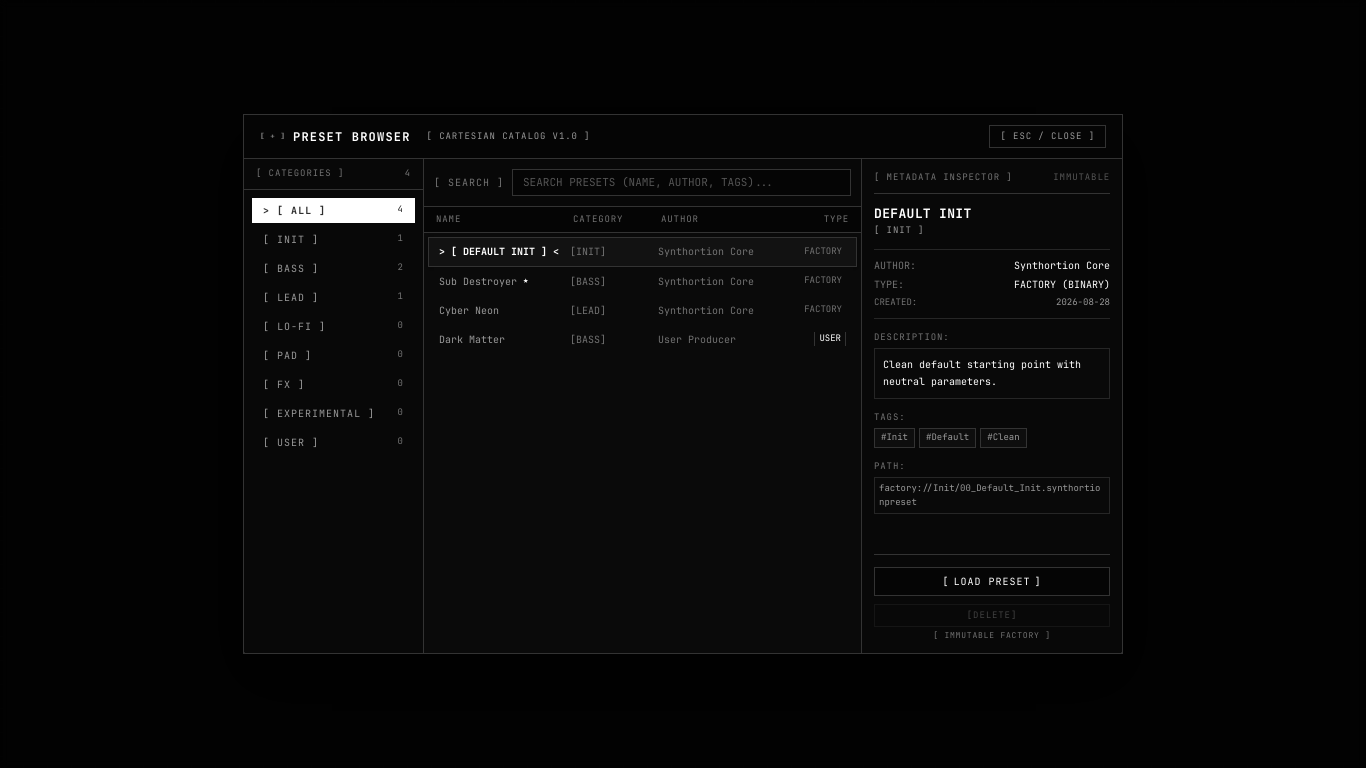
Test: PresetBrowserModal › filters presets with instant 0ms search across name, description, author, and tags
The width and height of the screenshot is (1366, 768).
# Search by author
Step 1. Type "User Producer" into the field with placeholder "SEARCH PRESETS (NAME, AUTHOR, TAGS)..." → (682, 182), box [512,169,851,196]
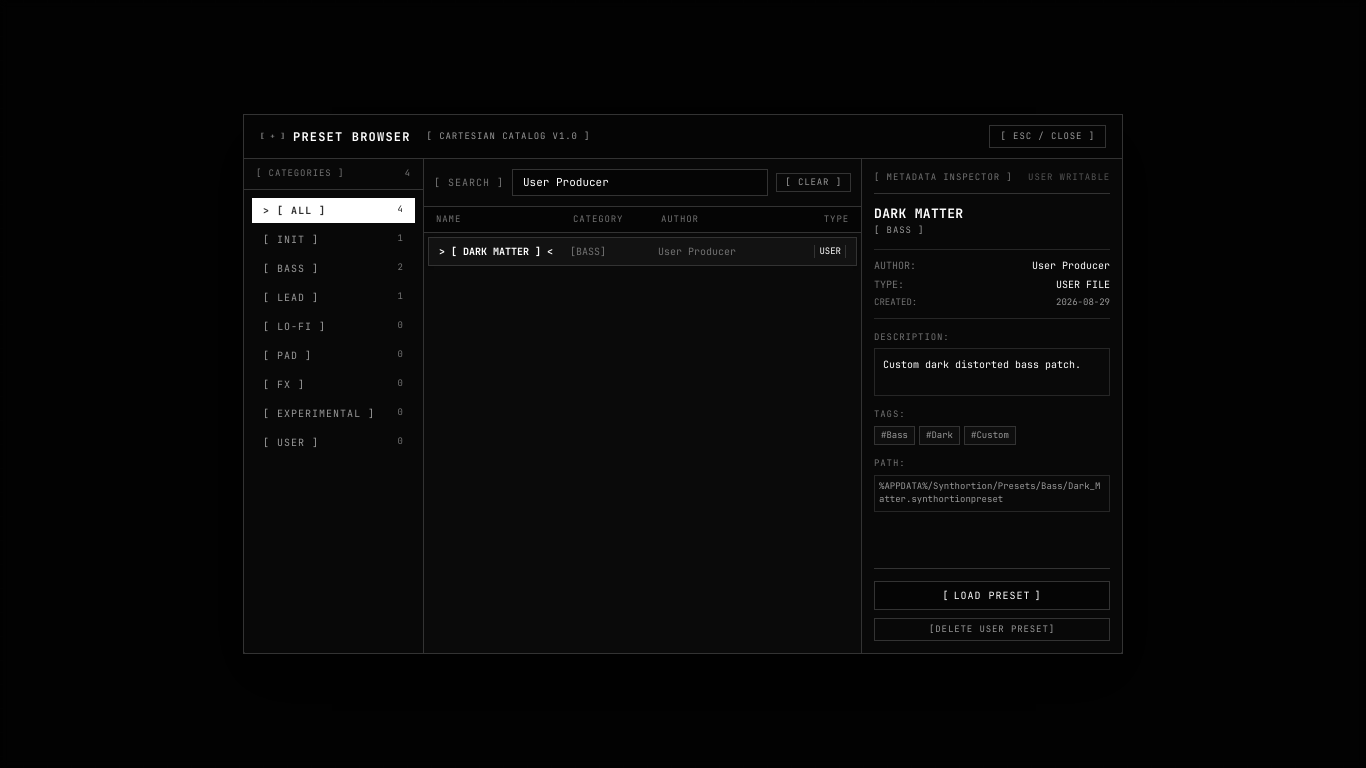
Expected: the text "> [ DARK MATTER ] <" is shown, [439,244,553,259]
Now the option "Sub Destroyer" is gone
# Search by tag
Step 2. Replace the text in the field with placeholder "SEARCH PRESETS (NAME, AUTHOR, TAGS)..." with "Neon" → (640, 182), box [512,169,768,196]
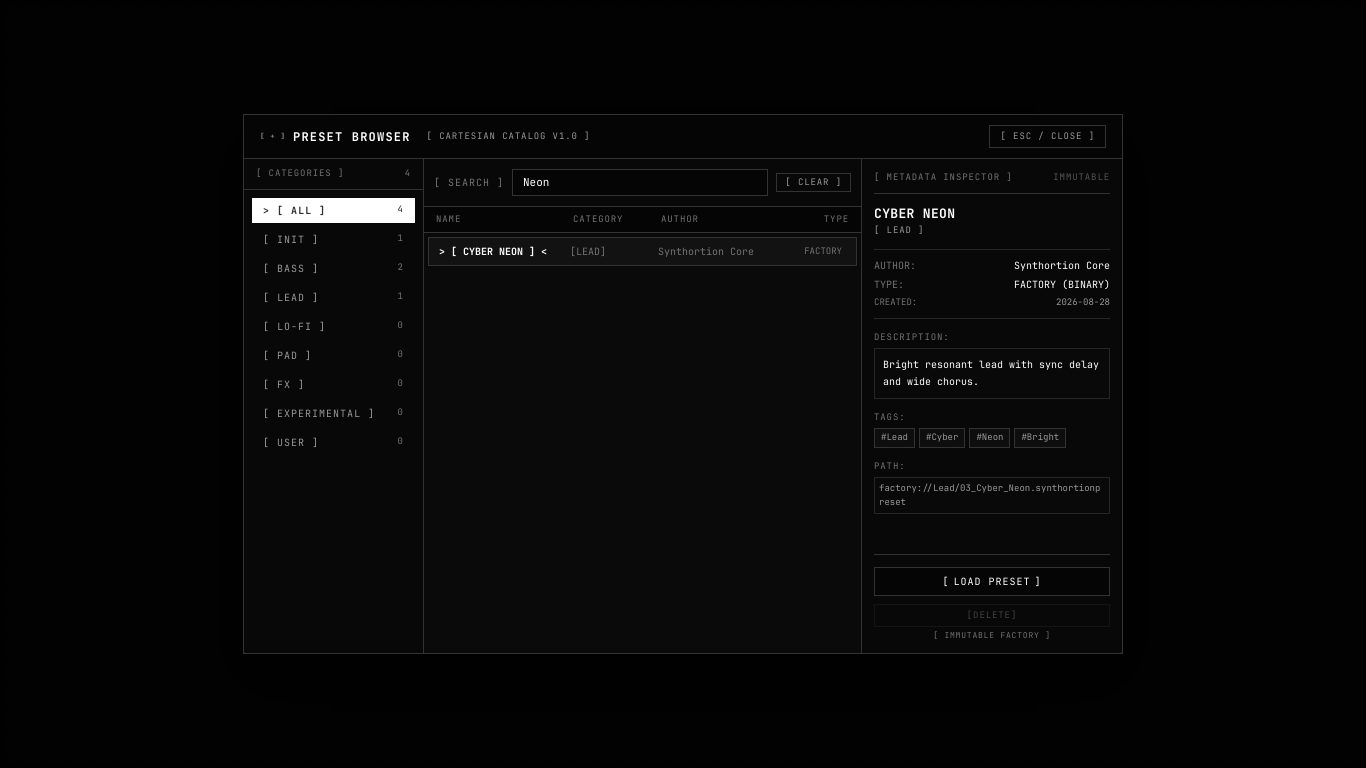
Now the text "> [ CYBER NEON ] <" is shown, box [439,244,547,259]
Now the option "DARK MATTER" is gone
# Search by description keyword
Step 3. Replace the text in the field with placeholder "SEARCH PRESETS (NAME, AUTHOR, TAGS)..." with "saturated" → (640, 182), box [512,169,768,196]
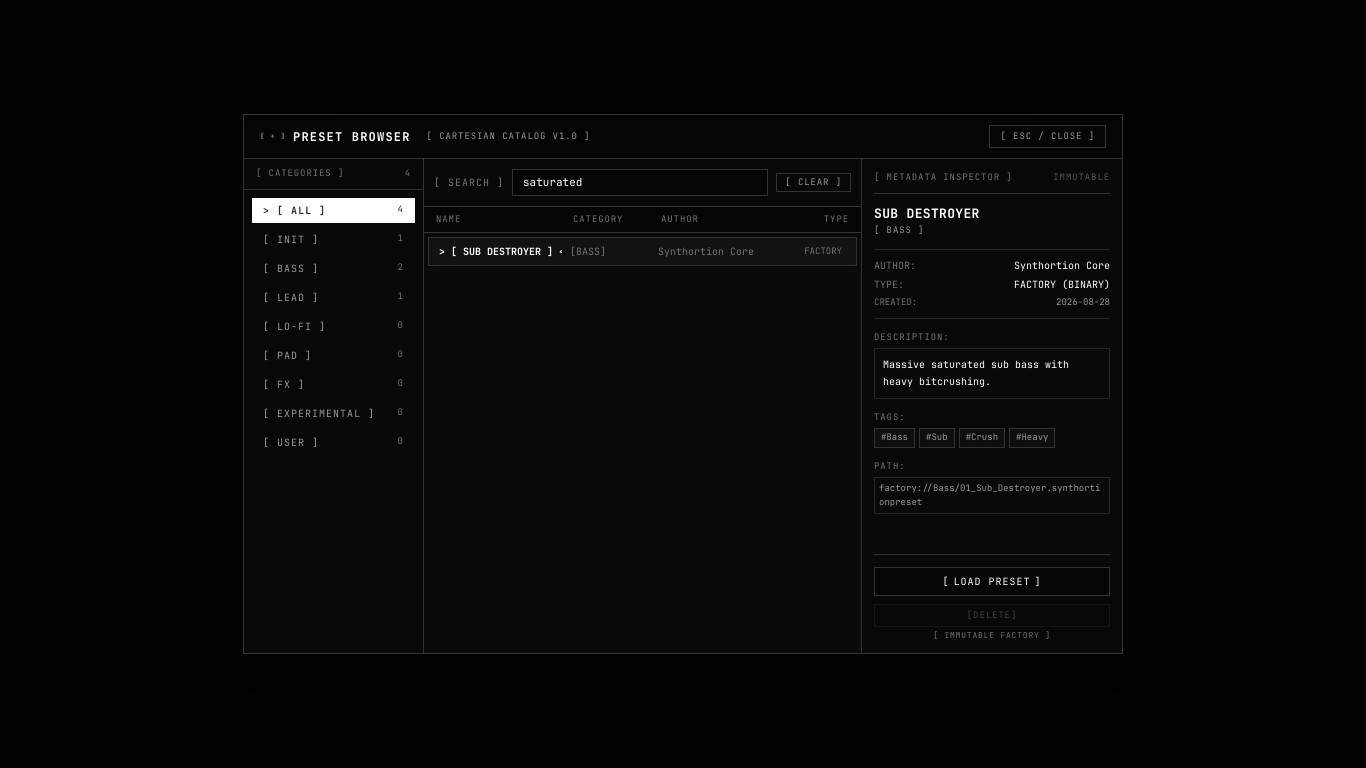
Now the text "> [ SUB DESTROYER ] <" is shown, box [439,244,562,259]
Now the option "CYBER NEON" is gone
# Non-matching query
Step 4. Replace the text in the field with placeholder "SEARCH PRESETS (NAME, AUTHOR, TAGS)..." with "xyz123nonexistent" → (640, 182), box [512,169,768,196]
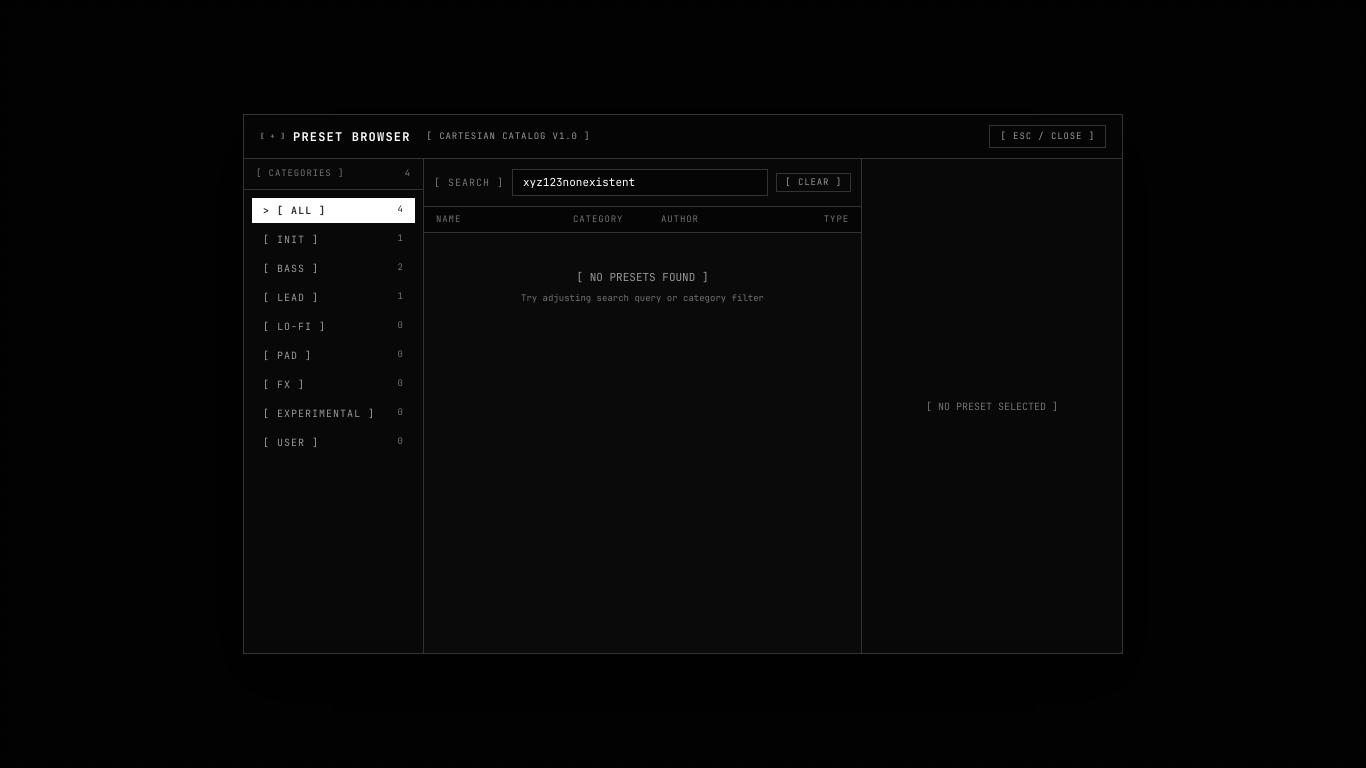
Now the text "[ NO PRESETS FOUND ]" is shown, box [576,269,708,286]
